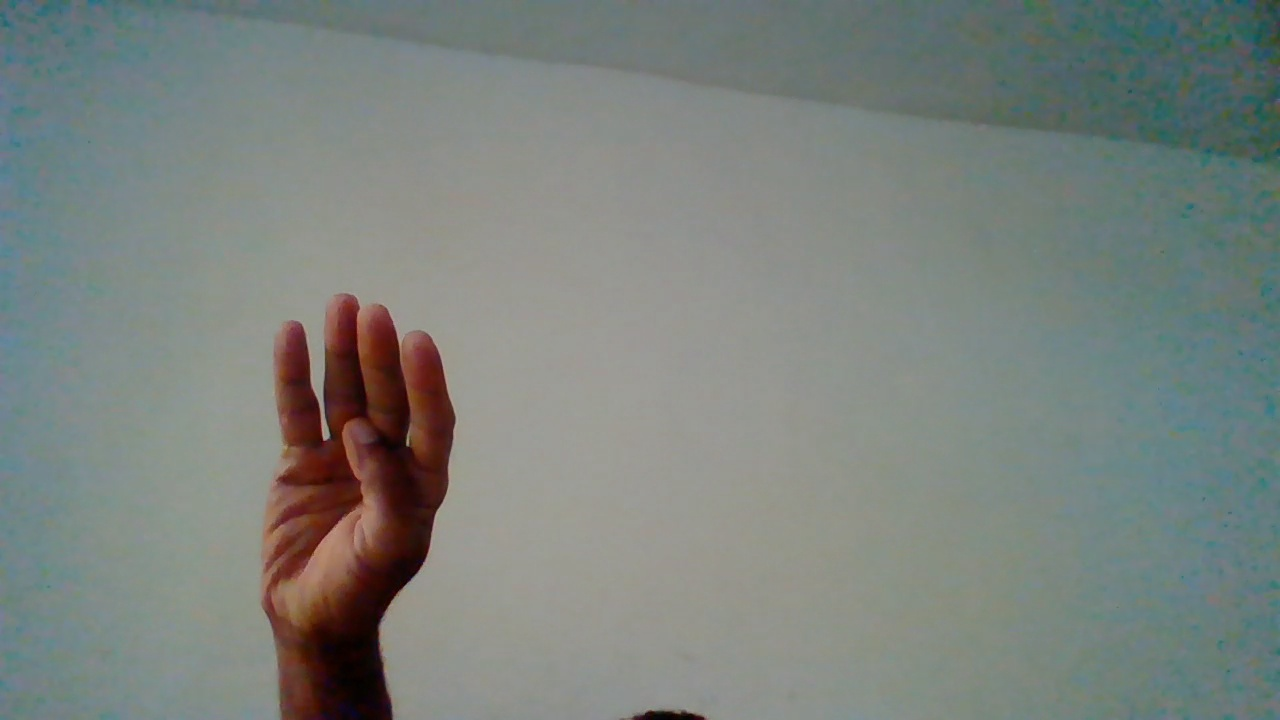me: (252, 290, 462, 712)
